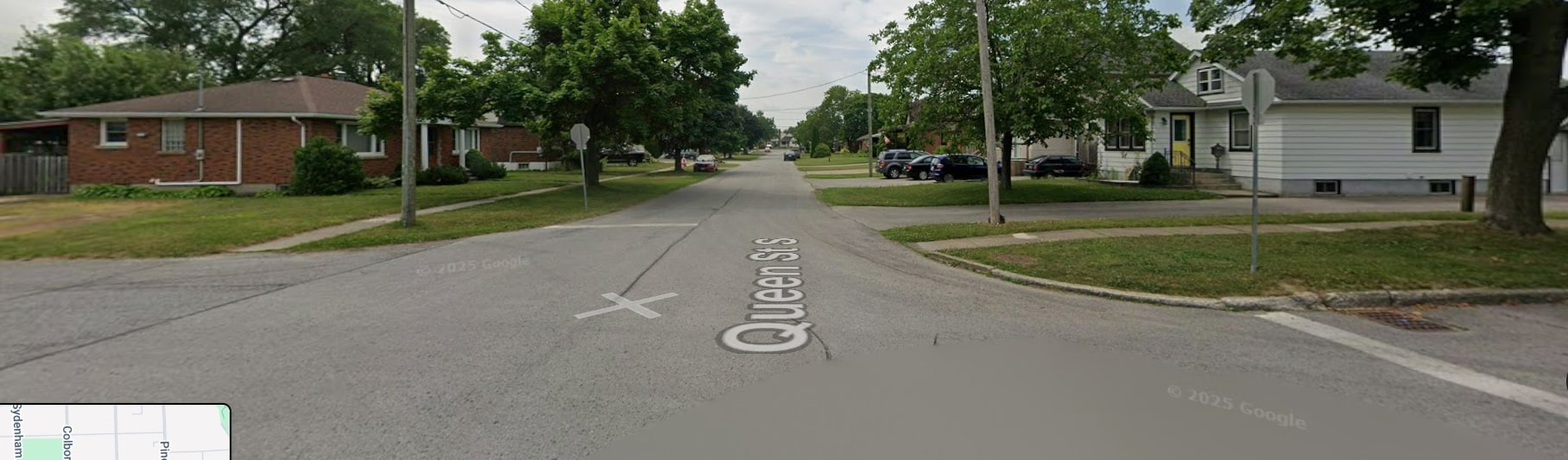cracks: (0, 338, 143, 389), (799, 317, 954, 359), (109, 302, 257, 342), (238, 265, 383, 303), (648, 196, 743, 253), (606, 252, 686, 295)
